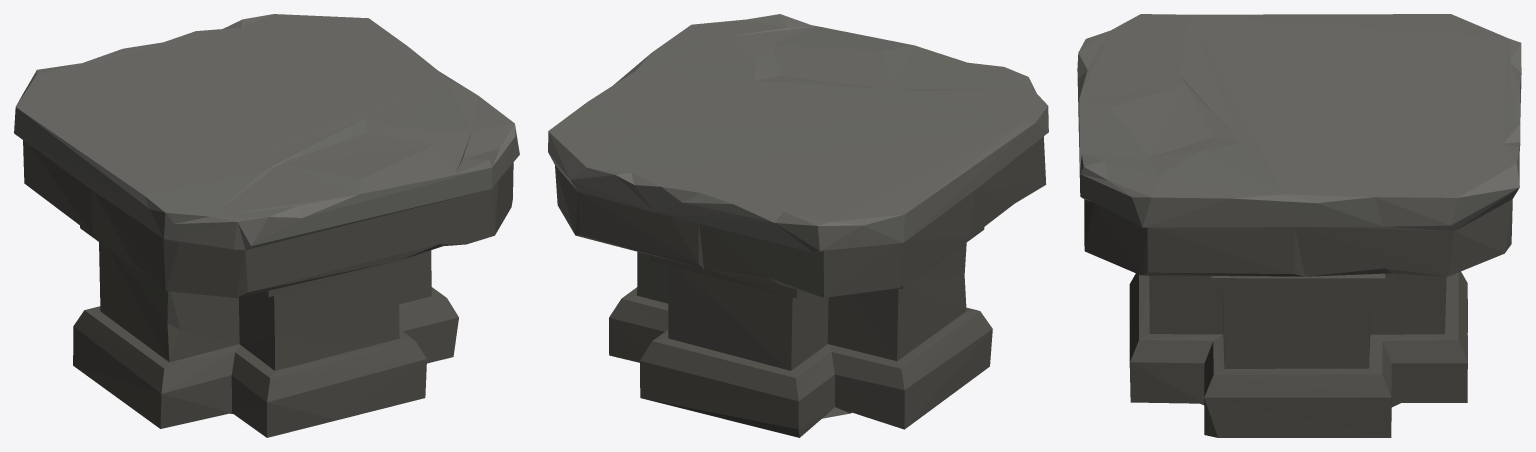
The model's file is MDungeon_PillarTable_Small.FBX.
3 renders of one model, left to right at view 1: azimuth 30°, elevation 25°; view 2: azimuth 150°, elevation 25°; view 3: azimuth 270°, elevation 25°, orthographic. The views are drawn at different scales.
Visible parts, largest first — view 1: MDungeon_PillarTable_Small_LOD0; view 2: MDungeon_PillarTable_Small_LOD0; view 3: MDungeon_PillarTable_Small_LOD0.
Boxes of the visible parts, x1,y1,x2,y2 form: MDungeon_PillarTable_Small_LOD0: (14,14,519,437); MDungeon_PillarTable_Small_LOD0: (548,14,1048,437); MDungeon_PillarTable_Small_LOD0: (1077,14,1521,437).
Size of what is drawn, in the model's own units: 1.84 by 1.21 by 1.86.
